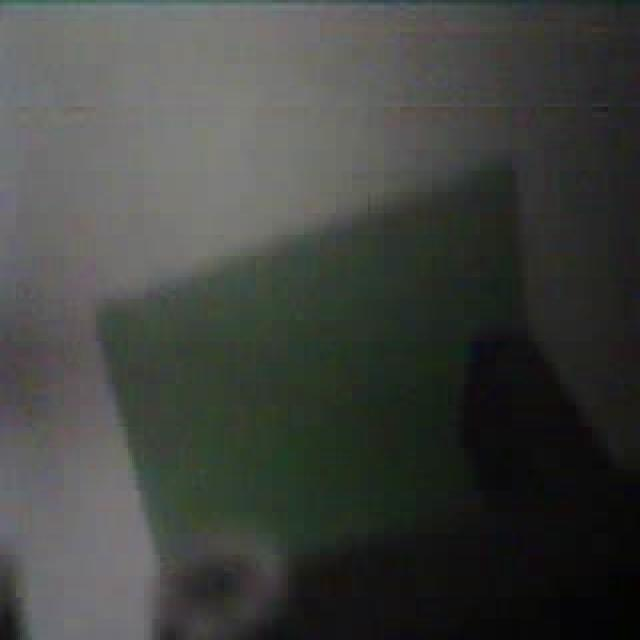green_box: (91, 152, 550, 633)
